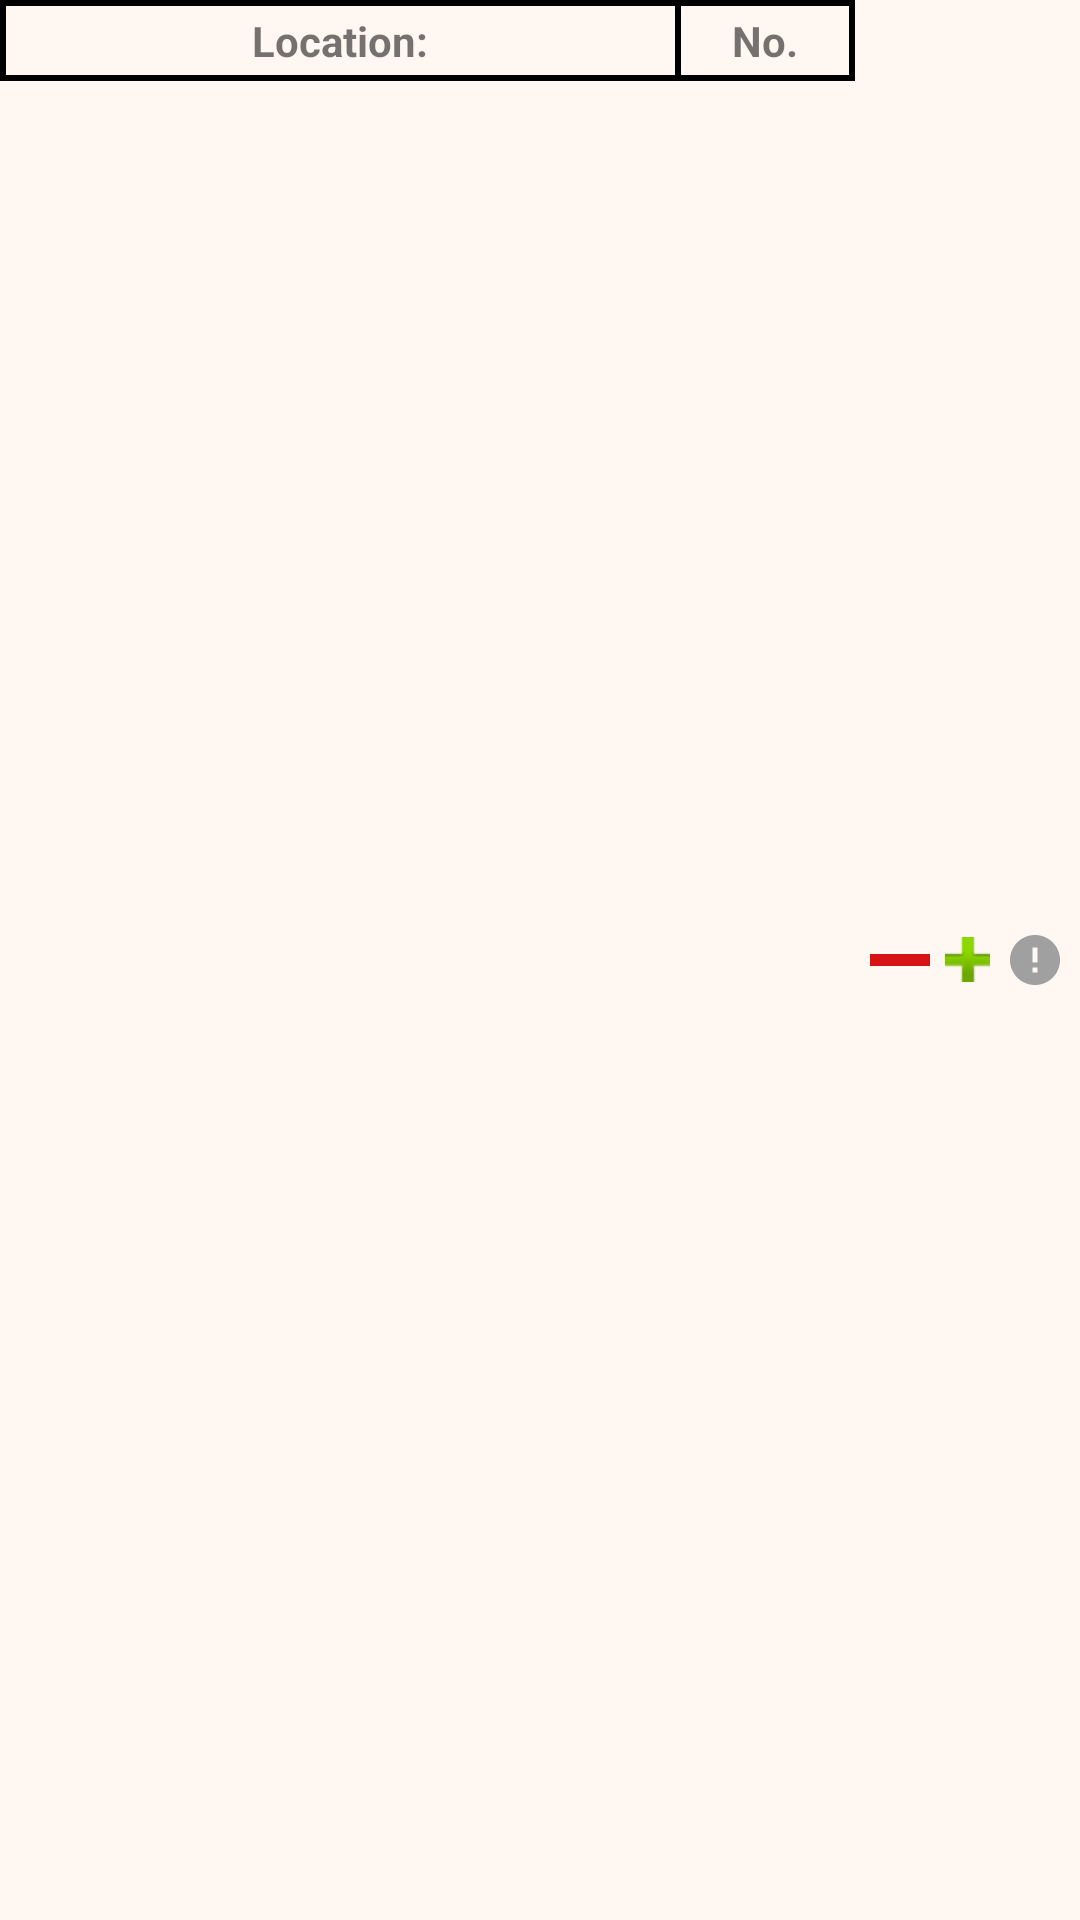

Where icons sit on this 1080px x 1920px app screen, as (x1, y1, x2, y2):
add: (945, 937, 990, 982)
error: (1010, 935, 1060, 985)
